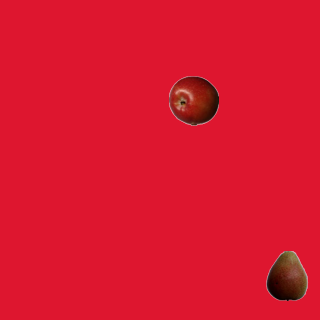Apple Braeburn: (168, 75, 218, 125)
Pear Forelle: (261, 250, 311, 300)
